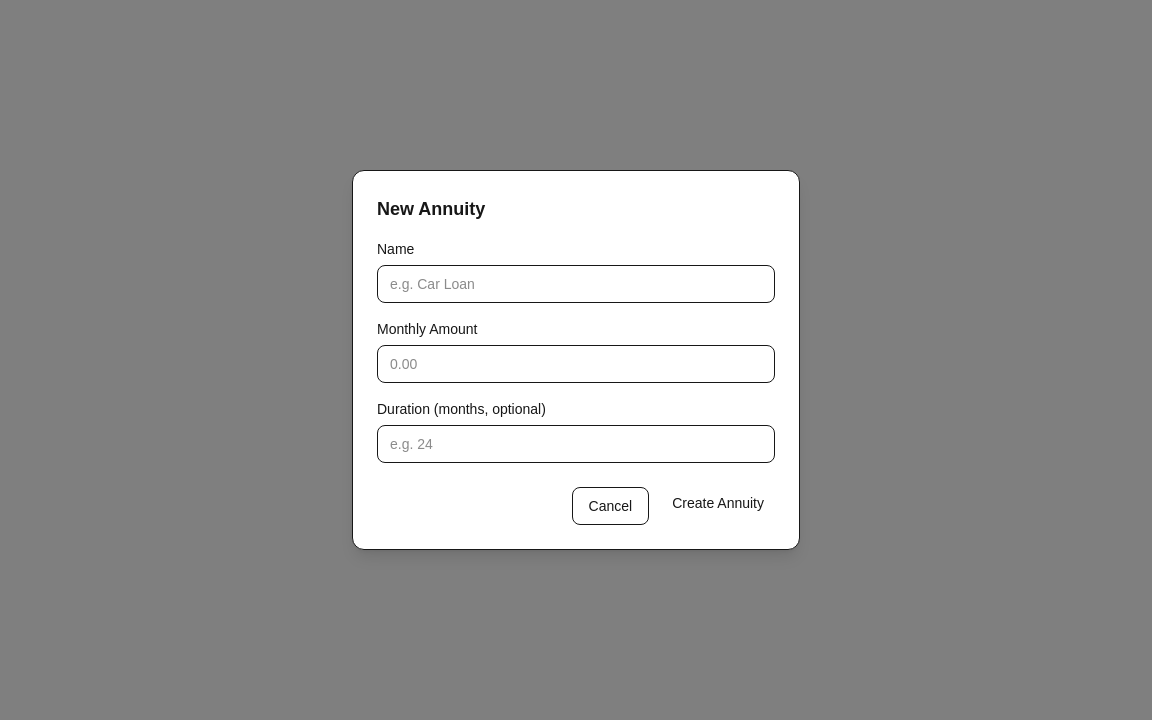
NewAnnuityDialog › For the flat-rate path: form fields are name (required) and monthly amount (required, positive) › shows a monthly amount error when monthly amount is empty
Step 1. Type "Spotify" into the field labelled "Name" → point(576, 284), box x1=377 y1=265 x2=775 y2=303
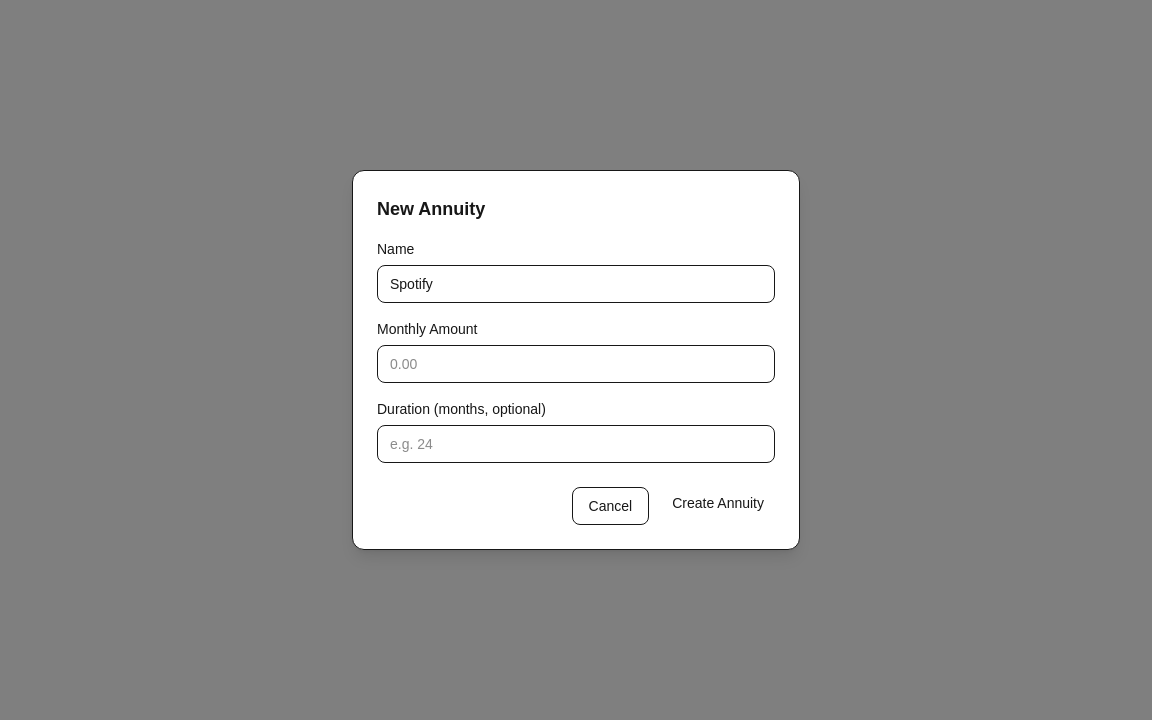
Step 2. Submit the form, box x1=377 y1=239 x2=775 y2=525
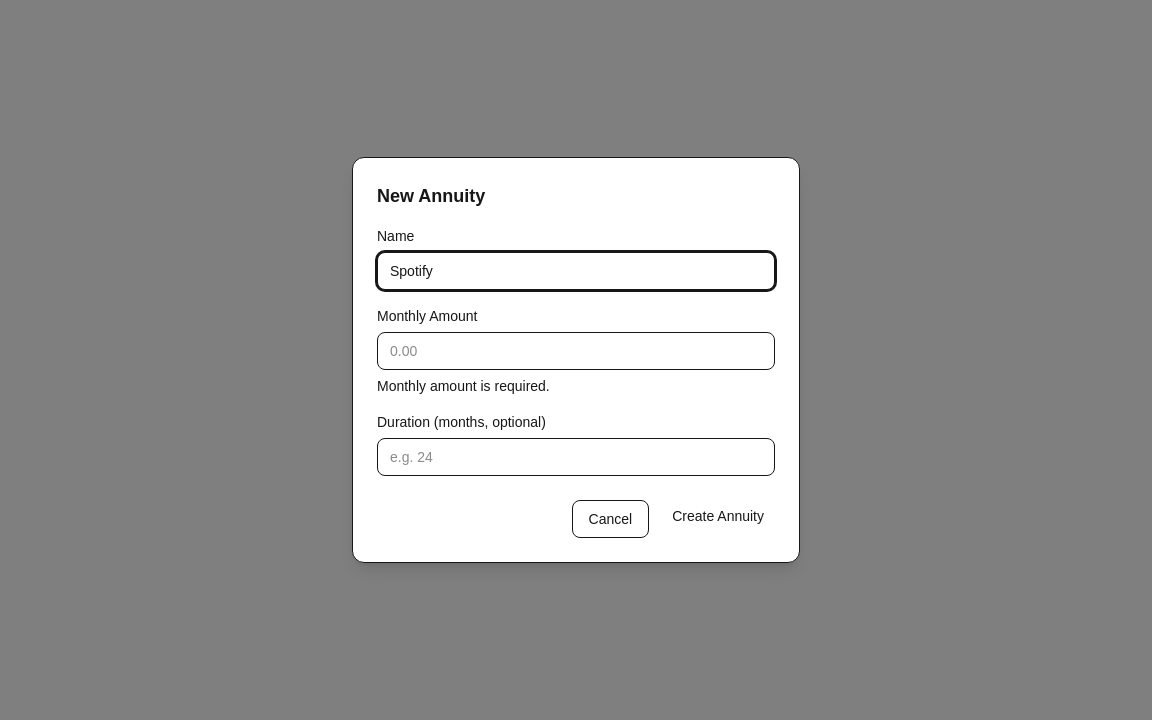
Expected: the text "Monthly amount is required." is shown, x1=377 y1=378 x2=550 y2=394
